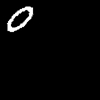chain: (7, 7, 32, 31)
